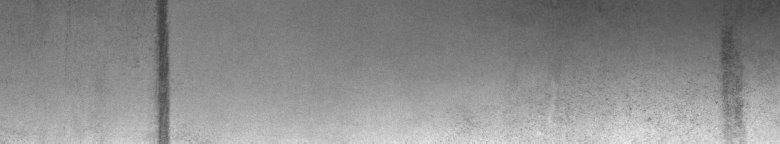hd: (148, 4, 176, 136)
